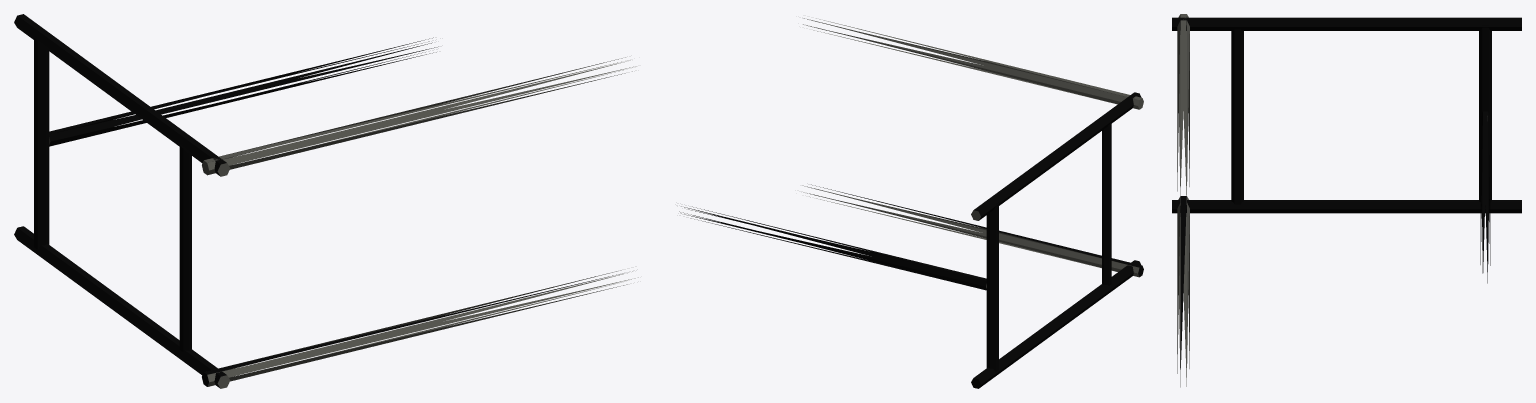
The picture shows the model from 3 angles, left to right: view 1: azimuth 30°, elevation 25°; view 2: azimuth 150°, elevation 25°; view 3: azimuth 270°, elevation 25°; orthographic projection. The views are drawn at different scales.
Bounding box in the file's own units: 1.66 × 0.8213 × 1.35.
